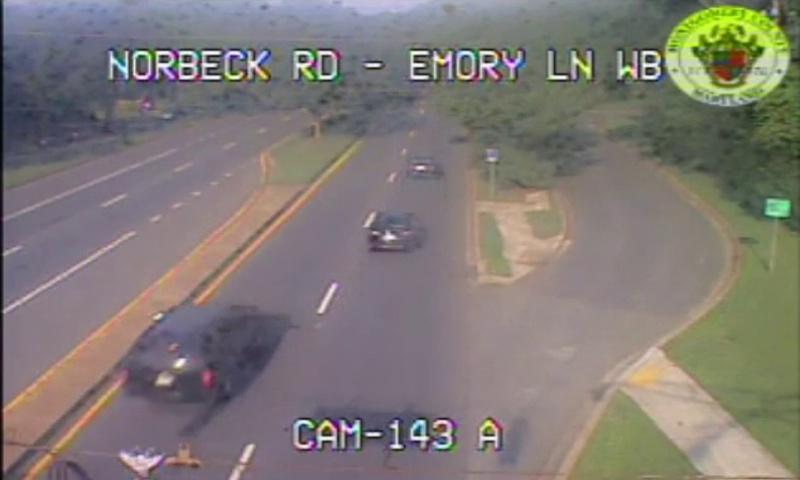car: (129, 304, 256, 402), (367, 212, 416, 251), (406, 157, 435, 176)
